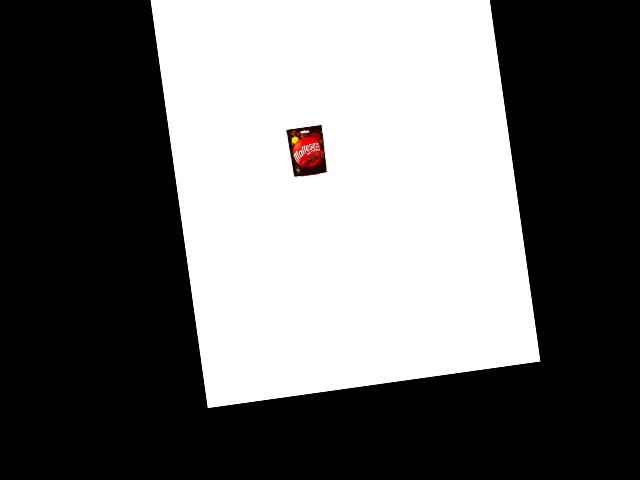chocolate: (286, 123, 329, 178)
